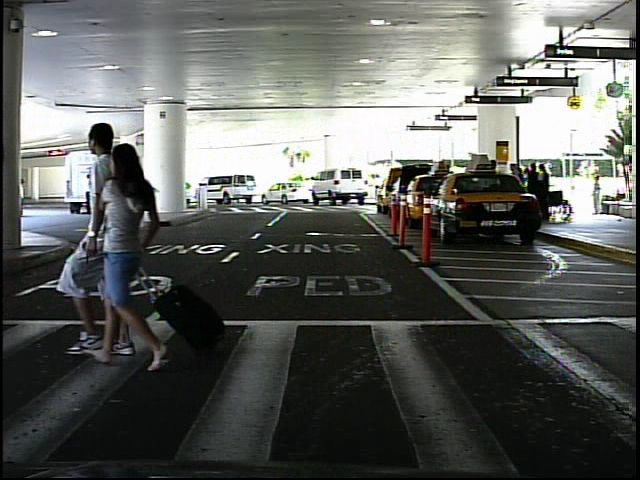person: (102, 135, 178, 376), (74, 116, 133, 363), (81, 170, 99, 220), (589, 172, 606, 218)
